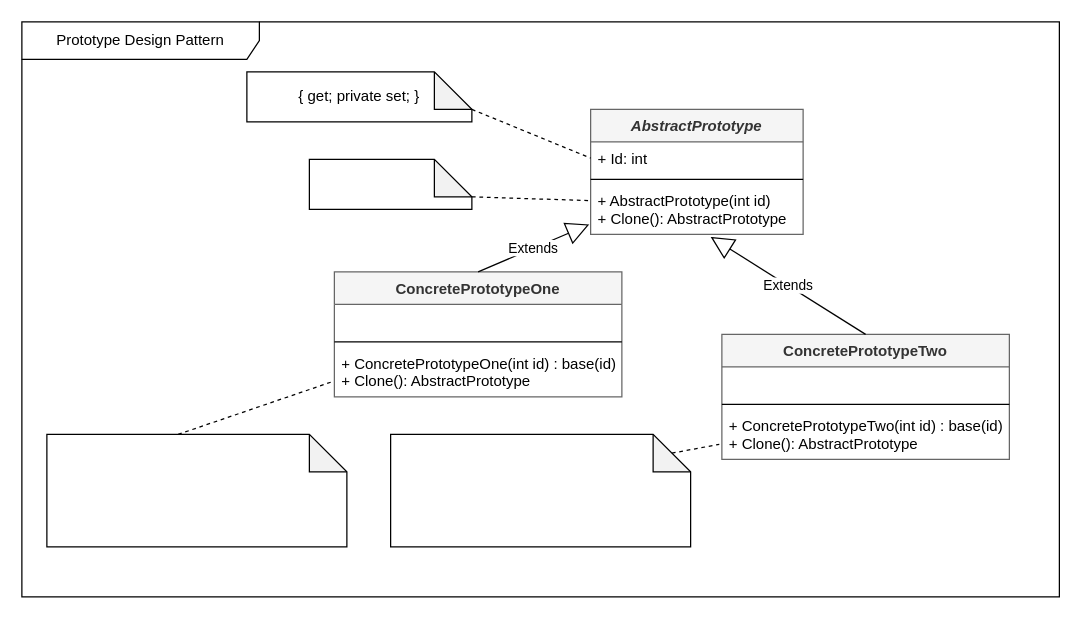
Some shapes in this 1081 by 619 pixel diagram are drawn without their labels. The shapes that lost their labels are listed below. From the top down, each one's centre as x and y in pixels, then its label:
(x=390, y=183): Id = id
(x=196, y=490): return new ConcretePrototypeOne(Id)
(x=540, y=490): return new ConcretePrototypeTwo(Id)
